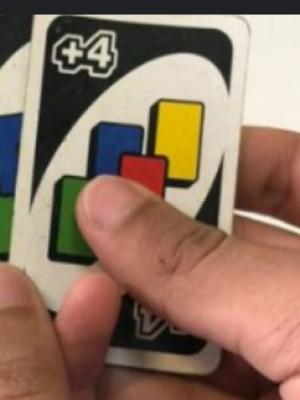wild-4: (1, 6, 255, 378)
